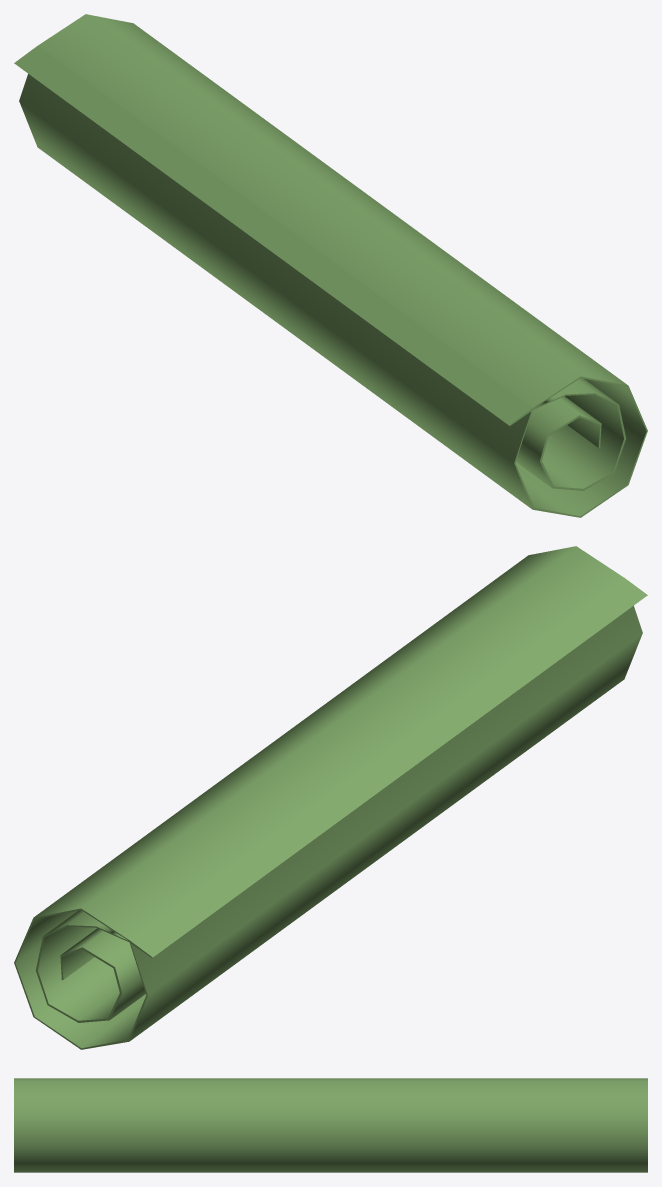
File: Mapa.fbx
3 renders of one model, top to bottom at view 1: azimuth 30°, elevation 25°; view 2: azimuth 150°, elevation 25°; view 3: azimuth 270°, elevation 25°, orthographic. The views are drawn at different scales.
Visible parts, largest first — view 1: Mapa; view 2: Mapa; view 3: Mapa.
Part boxes in pixels (bbox=[...]): Mapa: bbox=[14, 14, 647, 517]; Mapa: bbox=[14, 546, 647, 1049]; Mapa: bbox=[14, 1078, 647, 1172].
Bounding box in the file's own units: 0.0523 × 0.0509 × 0.3228.
